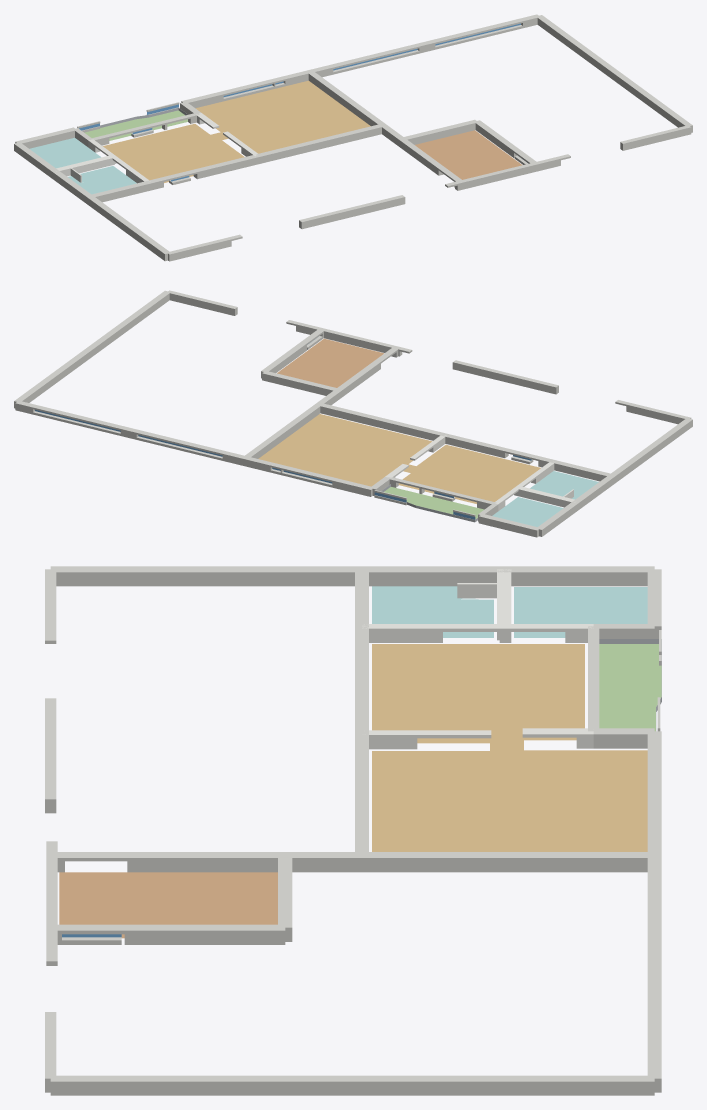
File: Screenshot 2026-10-06 153247_3d.obj
3 views of the same model, one above another, from view 1: azimuth 30°, elevation 25°; view 2: azimuth 150°, elevation 25°; view 3: azimuth 270°, elevation 25° (orthographic). The views are drawn at different scales.
Parts seen in each view (by area): view 1: floor_R3_living_89, floor_R5_kitchen_91, wall_W33_72, wall_W11_35, floor_R2_bathroom_88, wall_W17_44, wall_W21_48, floor_R4_bathroom_90, wall_W29_62, floor_R1_balcony_87, wall_W14_39, wall_W12_36 (+15 smaller); view 2: floor_R3_living_89, floor_R5_kitchen_91, wall_W33_72, wall_W11_35, floor_R2_bathroom_88, wall_W17_44, wall_W21_48, floor_R4_bathroom_90, floor_R1_balcony_87, wall_W29_62, wall_W12_36, wall_W18_45 (+15 smaller); view 3: floor_R3_living_89, wall_W33_72, floor_R5_kitchen_91, wall_W21_48, wall_W29_62, floor_R2_bathroom_88, floor_R1_balcony_87, floor_R4_bathroom_90, wall_W32_67, wall_W31_64, wall_W19_46, wall_W20_47 (+15 smaller).
Boxes of the visible parts, x1,y1,x2,y2 form: floor_R3_living_89: (103, 80, 370, 182); floor_R5_kitchen_91: (415, 130, 522, 179); wall_W33_72: (536, 15, 692, 132); wall_W11_35: (256, 124, 384, 163); floor_R2_bathroom_88: (29, 137, 100, 168); wall_W17_44: (299, 195, 405, 229); wall_W21_48: (87, 196, 170, 261); floor_R4_bathroom_90: (68, 166, 136, 194); wall_W29_62: (308, 71, 385, 126); floor_R1_balcony_87: (84, 110, 187, 140); wall_W14_39: (461, 162, 536, 189); wall_W12_36: (401, 119, 477, 144); floor_R3_living_89: (258, 414, 540, 503); floor_R5_kitchen_91: (277, 338, 383, 387); wall_W33_72: (14, 290, 169, 408); wall_W11_35: (320, 403, 445, 440); floor_R2_bathroom_88: (492, 497, 563, 526); wall_W17_44: (452, 360, 558, 394); wall_W21_48: (611, 418, 692, 482); floor_R4_bathroom_90: (530, 471, 598, 499); floor_R1_balcony_87: (384, 487, 484, 519); wall_W29_62: (243, 403, 321, 458); wall_W12_36: (262, 371, 339, 395); wall_W18_45: (167, 290, 237, 315); floor_R3_living_89: (372, 644, 647, 851); wall_W33_72: (50, 1075, 654, 1095); floor_R5_kitchen_91: (59, 872, 277, 938); wall_W21_48: (50, 566, 361, 586); wall_W29_62: (362, 852, 647, 872); floor_R2_bathroom_88: (514, 587, 647, 637); floor_R1_balcony_87: (599, 644, 661, 731); floor_R4_bathroom_90: (372, 586, 493, 637); wall_W32_67: (124, 924, 285, 944); wall_W31_64: (127, 852, 285, 872); wall_W19_46: (504, 566, 654, 586); wall_W20_47: (362, 566, 503, 586).
Size of the model in its own units: 214 by 2.75 by 109.
